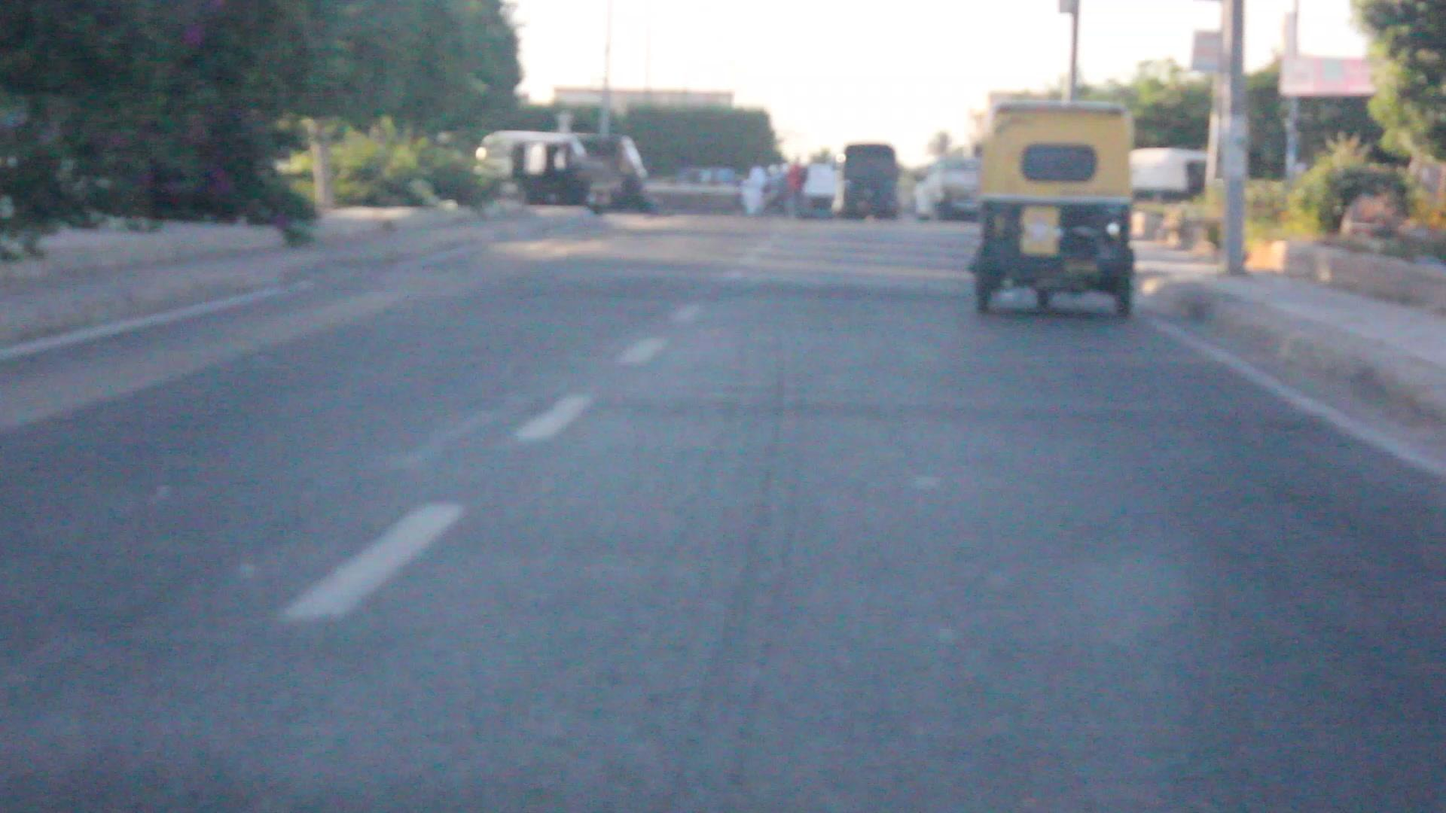Bump: (383, 254, 973, 302)
